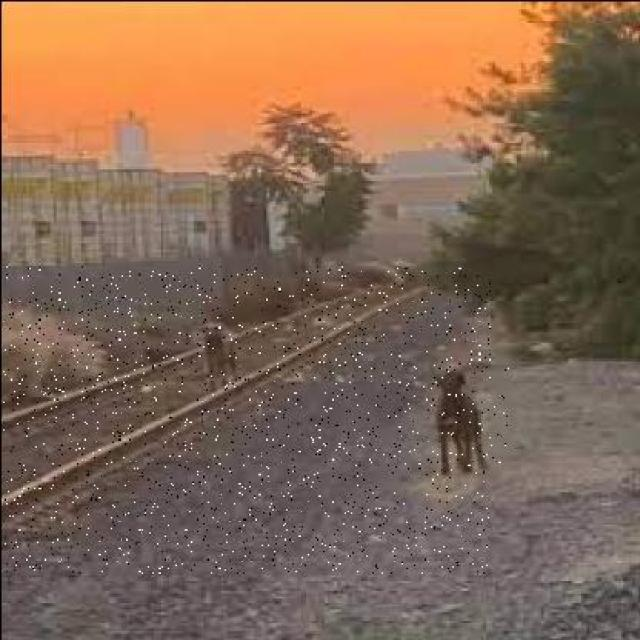rail: (3, 268, 489, 573)
